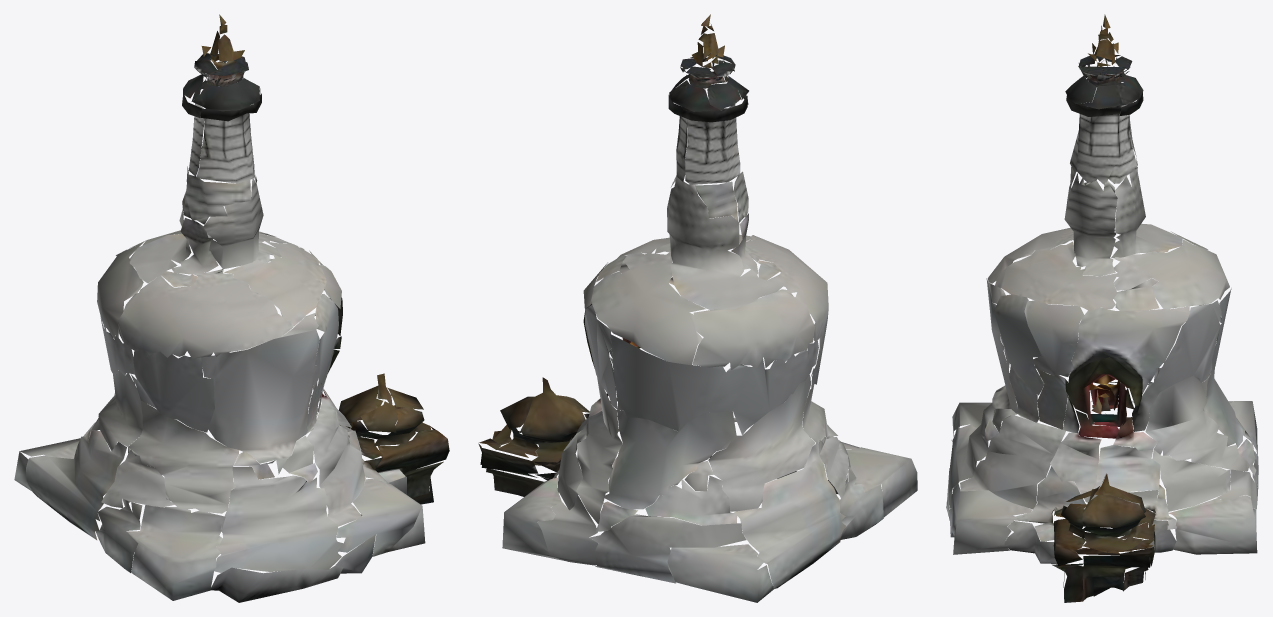
File: preview.glb
The picture shows the model from 3 angles, left to right: view 1: azimuth 30°, elevation 25°; view 2: azimuth 150°, elevation 25°; view 3: azimuth 270°, elevation 25°; orthographic projection. The views are drawn at different scales.
Parts seen in each view (by area): view 1: beihai/tripo_node_5570df20-f916-4795-a277-256662f28785; view 2: beihai/tripo_node_5570df20-f916-4795-a277-256662f28785; view 3: beihai/tripo_node_5570df20-f916-4795-a277-256662f28785.
Part boxes in pixels (box(x1,y1,x2,y2)): beihai/tripo_node_5570df20-f916-4795-a277-256662f28785: box(14, 14, 449, 602); beihai/tripo_node_5570df20-f916-4795-a277-256662f28785: box(478, 14, 917, 602); beihai/tripo_node_5570df20-f916-4795-a277-256662f28785: box(946, 14, 1258, 602).
Bounding box in the file's own units: 0.2453 × 0.3618 × 0.2051.
1 material, 1 textured.
